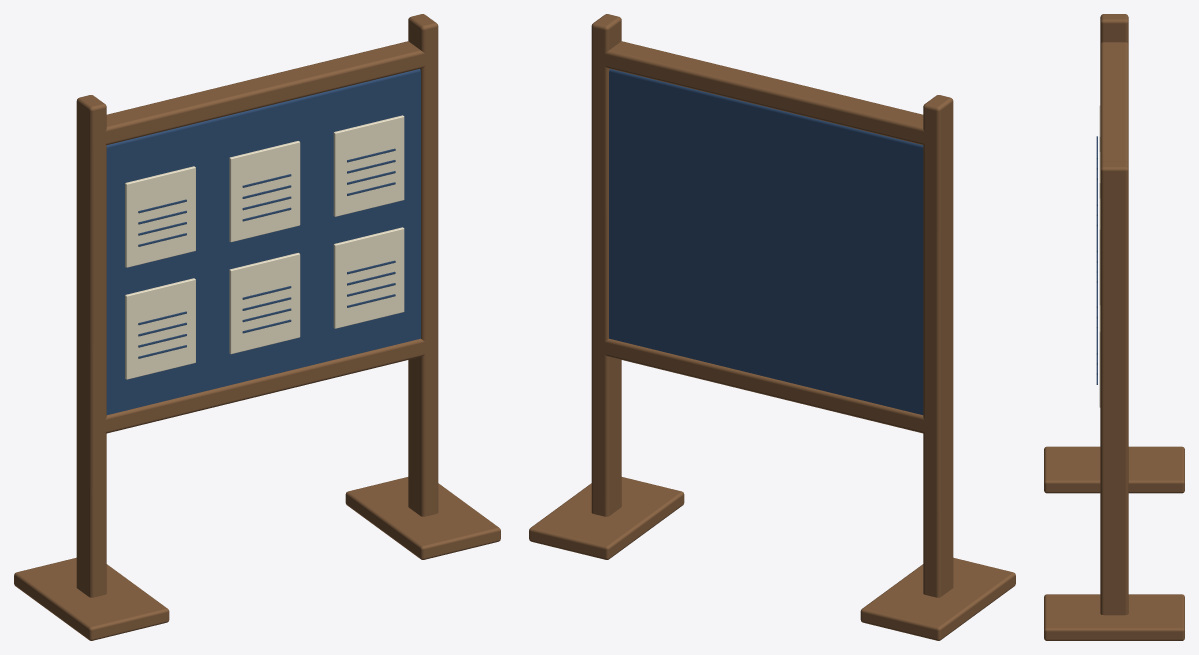
Rendered from fantasy-cartographers-map-printing-guild-guild-commiss-904e243c__32273.glb.
3 renders of one model, left to right at view 1: azimuth 30°, elevation 25°; view 2: azimuth 150°, elevation 25°; view 3: azimuth 270°, elevation 25°, orthographic. The views are drawn at different scales.
Visible parts, largest first — view 1: guild-commission-board; view 2: guild-commission-board; view 3: guild-commission-board.
Part boxes in pixels (left/top/right/bottom): guild-commission-board: left=14, top=14, right=500, bottom=640; guild-commission-board: left=529, top=14, right=1015, bottom=640; guild-commission-board: left=1044, top=14, right=1184, bottom=640.
Size of the model in its own units: 1.54 by 1.8 by 0.4999.
